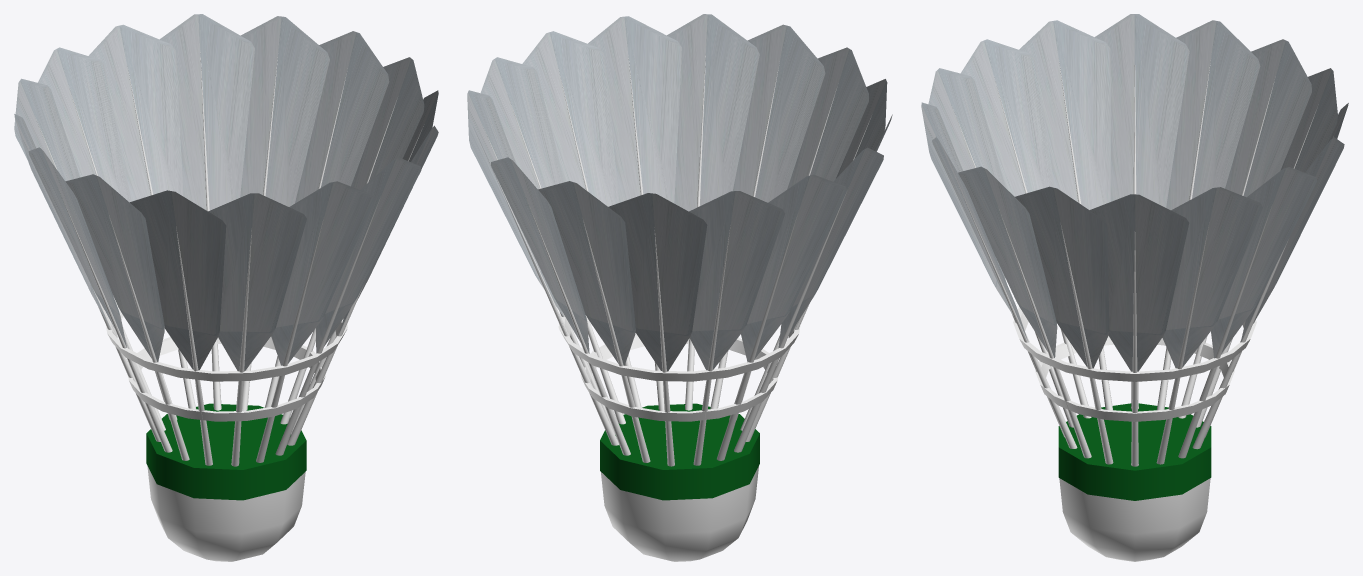
File: feather_shuttle.obj
3 views of the same model, side by side, from view 1: azimuth 30°, elevation 25°; view 2: azimuth 150°, elevation 25°; view 3: azimuth 270°, elevation 25° (orthographic).
Visible parts, largest first — view 1: 009_feather, 008_feather, 010_feather, 017_feather, 016_feather, 034_band, 007_feather, 002_feather, 035_cork, 015_feather, 011_feather, 003_feather (+19 smaller); view 2: 003_feather, 004_feather, 011_feather, 012_feather, 034_band, 002_feather, 005_feather, 010_feather, 035_cork, 013_feather, 006_feather, 017_feather (+18 smaller); view 3: 014_feather, 015_feather, 013_feather, 006_feather, 034_band, 005_feather, 007_feather, 016_feather, 035_cork, 012_feather, 004_feather, 008_feather (+18 smaller).
Boxes of the visible parts, x1,y1,x2,y2 form: 009_feather: (160,14,254,210); 008_feather: (240,16,329,206); 010_feather: (88,24,183,201); 017_feather: (208,193,306,371); 016_feather: (130,190,226,370); 034_band: (146,403,306,500); 007_feather: (295,31,389,203); 002_feather: (271,181,375,365); 035_cork: (147,466,305,561); 015_feather: (65,174,164,362); 011_feather: (38,47,131,202); 003_feather: (316,157,421,353); 003_feather: (667,14,759,211); 004_feather: (588,16,681,203); 011_feather: (608,193,707,371); 012_feather: (689,191,785,370); 034_band: (600,403,759,500); 002_feather: (733,24,825,202); 005_feather: (522,31,619,206); 010_feather: (538,181,635,365); 035_cork: (601,466,758,561); 013_feather: (741,174,846,362); 006_feather: (480,57,564,189); 017_feather: (787,47,868,189); 014_feather: (1095,14,1189,207); 015_feather: (1019,20,1110,209); 013_feather: (1166,20,1260,210); 006_feather: (1090,194,1189,371); 034_band: (1058,403,1211,500); 005_feather: (1015,186,1109,368); 007_feather: (1162,187,1262,368); 016_feather: (960,39,1054,196); 035_cork: (1059,478,1210,561); 012_feather: (1225,39,1311,197); 004_feather: (958,166,1057,357); 008_feather: (1211,167,1317,358).
Bounding box in the file's own units: 76.64 × 89.14 × 76.64.
Materials: 6 (1 with a texture image).
